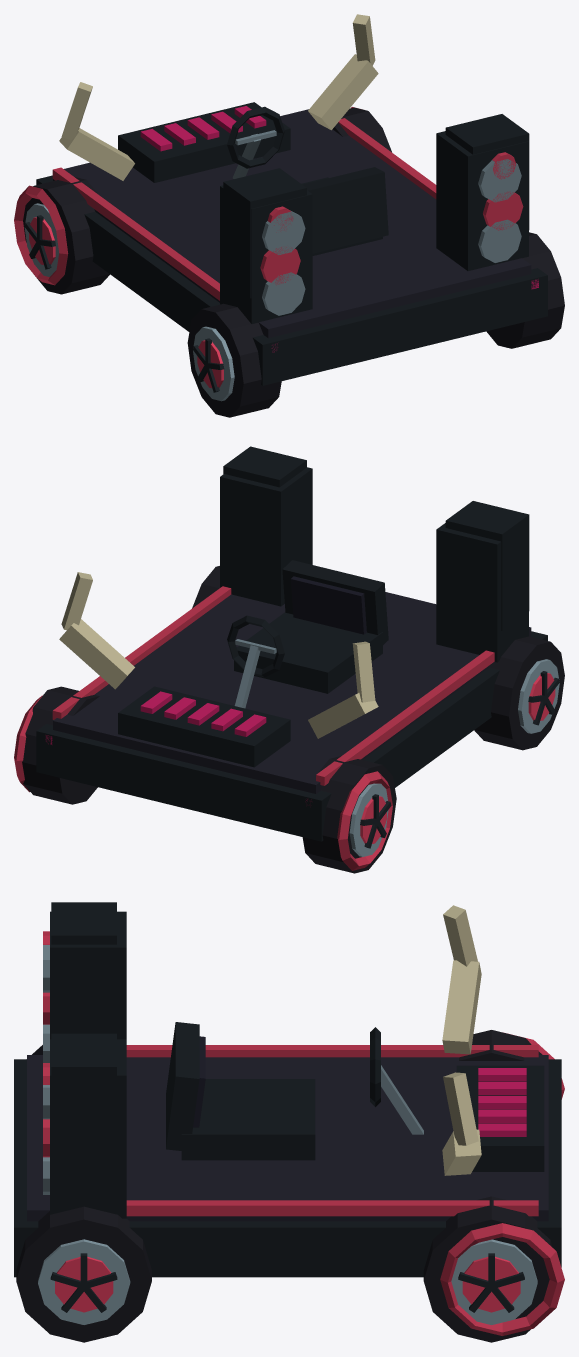
File: kart.glb
The picture shows the model from 3 angles, top to bottom: view 1: azimuth 30°, elevation 25°; view 2: azimuth 150°, elevation 25°; view 3: azimuth 270°, elevation 25°; orthographic projection. The views are drawn at different scales.
Visible parts, largest first — view 1: identity-stage-stage-platform-and-pa-towers, identity-stage-motif-speakers, identity-stage-driver-cockpit, wheel-rear-left, wheel-front-left, identity-stage-motif-horns, wheel-rear-right, identity-stage-motif-neon, wheel-front-right; view 2: identity-stage-stage-platform-and-pa-towers, identity-stage-driver-cockpit, wheel-rear-left, identity-stage-motif-speakers, wheel-front-left, identity-stage-motif-horns, wheel-front-right, identity-stage-motif-neon; view 3: identity-stage-stage-platform-and-pa-towers, identity-stage-driver-cockpit, wheel-rear-right, identity-stage-motif-speakers, wheel-front-right, identity-stage-motif-horns, identity-stage-motif-neon, wheel-front-left.
Part boxes in pixels (x1,y1,x2,y2): identity-stage-stage-platform-and-pa-towers: (36, 102, 547, 385); identity-stage-motif-speakers: (223, 114, 529, 298); identity-stage-driver-cockpit: (227, 106, 388, 255); wheel-rear-left: (187, 303, 281, 417); wheel-front-left: (23, 177, 109, 294); identity-stage-motif-horns: (59, 14, 378, 180); wheel-rear-right: (486, 232, 564, 348); identity-stage-motif-neon: (14, 107, 538, 352); wheel-front-right: (332, 107, 391, 152); identity-stage-stage-platform-and-pa-towers: (36, 467, 547, 841); identity-stage-driver-cockpit: (227, 560, 388, 708); wheel-rear-left: (474, 636, 564, 750); identity-stage-motif-speakers: (223, 446, 529, 630); wheel-front-left: (302, 756, 396, 873); identity-stage-motif-horns: (59, 572, 378, 738); wheel-front-right: (22, 686, 99, 804); identity-stage-motif-neon: (14, 695, 392, 870); identity-stage-stage-platform-and-pa-towers: (14, 911, 561, 1277); identity-stage-driver-cockpit: (166, 1022, 423, 1160); wheel-rear-right: (16, 1206, 151, 1342); identity-stage-motif-speakers: (43, 902, 116, 1184); wheel-front-right: (423, 1196, 552, 1342); identity-stage-motif-horns: (442, 905, 481, 1175); identity-stage-motif-neon: (440, 1032, 564, 1335); wheel-front-left: (459, 1030, 542, 1060).
Size of the model in its own units: 2.16 by 1.33 by 2.51.
